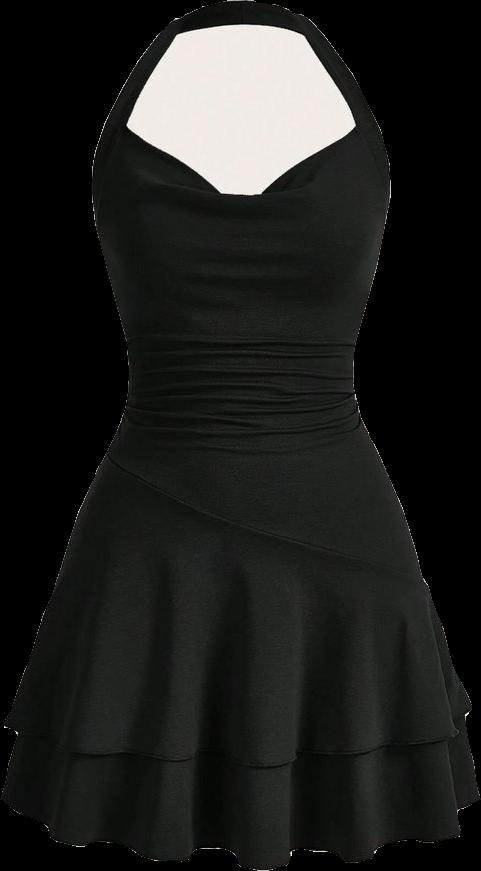Bodice: (92, 1, 421, 572)
Hemline: (0, 794, 480, 870), (1, 721, 462, 777)
Neckline: (113, 118, 372, 203)
Skirt: (1, 457, 480, 869)
Waistline: (102, 449, 419, 576)
